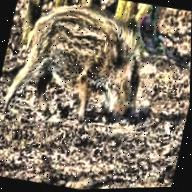boar: (0, 0, 157, 141)
